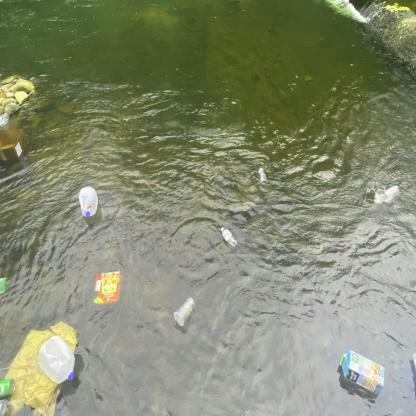Metal: (0, 376, 18, 397)
Plastic: (36, 330, 79, 388), (170, 294, 196, 329), (75, 184, 101, 219), (376, 182, 403, 206), (218, 223, 240, 252), (254, 162, 272, 193), (0, 110, 11, 127)
Trash: (0, 320, 81, 416)
